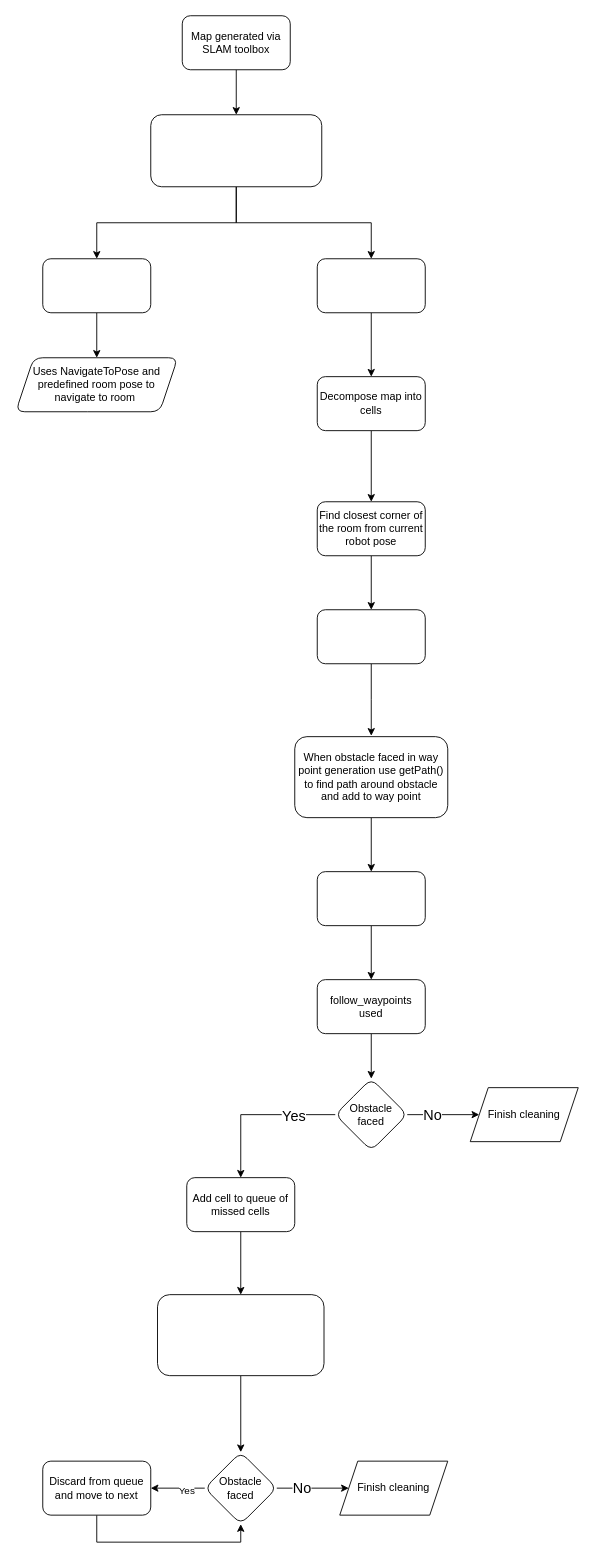
Some shapes in this 594 by 1565 pixel diagram are drawn without their labels. Here are the shapes that lost their labels. From the top down, the centre of each, then its label:
At pixel 236 150: "Assign names, predefined target pose, and boundaries for each room".
At pixel 96 285: "goto_room()".
At pixel 370 285: "clean_room()".
At pixel 370 636: "Creates way points using Boustrophedon motion starting from the corner found".
At pixel 370 898: "Use NavigateToPose to move robot to the initial cell".
At pixel 240 1335: "After completing the way points use NavigateToPose to go each missed cell".
